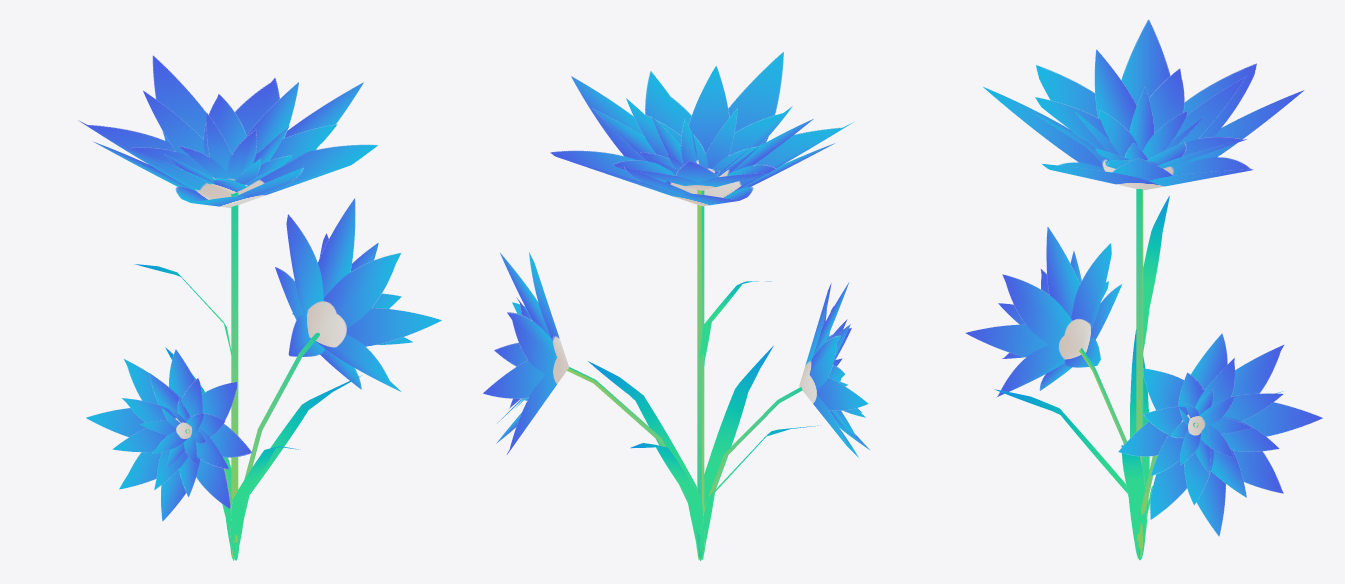
File: Flowers_n02_03.fbx
The picture shows the model from 3 angles, left to right: view 1: azimuth 30°, elevation 25°; view 2: azimuth 150°, elevation 25°; view 3: azimuth 270°, elevation 25°; orthographic projection. The views are drawn at different scales.
Visible parts, largest first — view 1: polySurface129; view 2: polySurface129; view 3: polySurface129.
Boxes of the visible parts, x1=… form: polySurface129: x1=78, y1=55, x2=441, y2=560; polySurface129: x1=483, y1=52, x2=870, y2=560; polySurface129: x1=965, y1=19, x2=1322, y2=560.
Size of the model in its own units: 52.01 by 61.99 by 44.05.
1 material, 1 textured.
